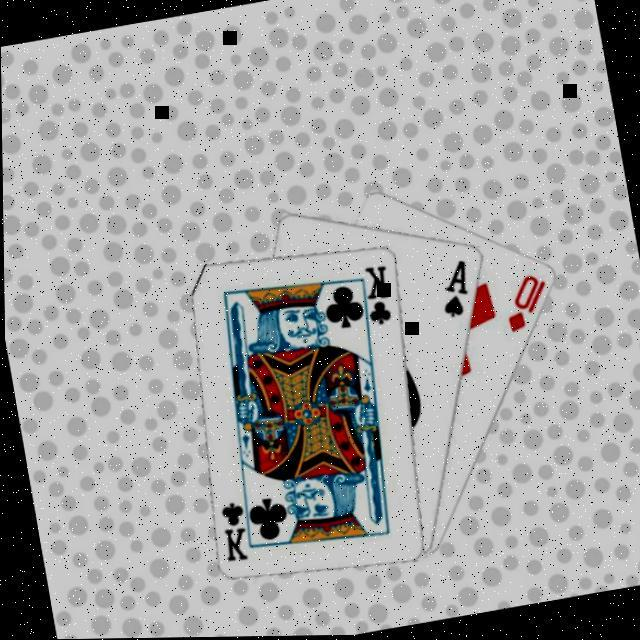10D: (498, 272, 557, 340)
AS: (434, 258, 478, 324)
KC: (213, 492, 261, 568), (352, 263, 399, 337)
